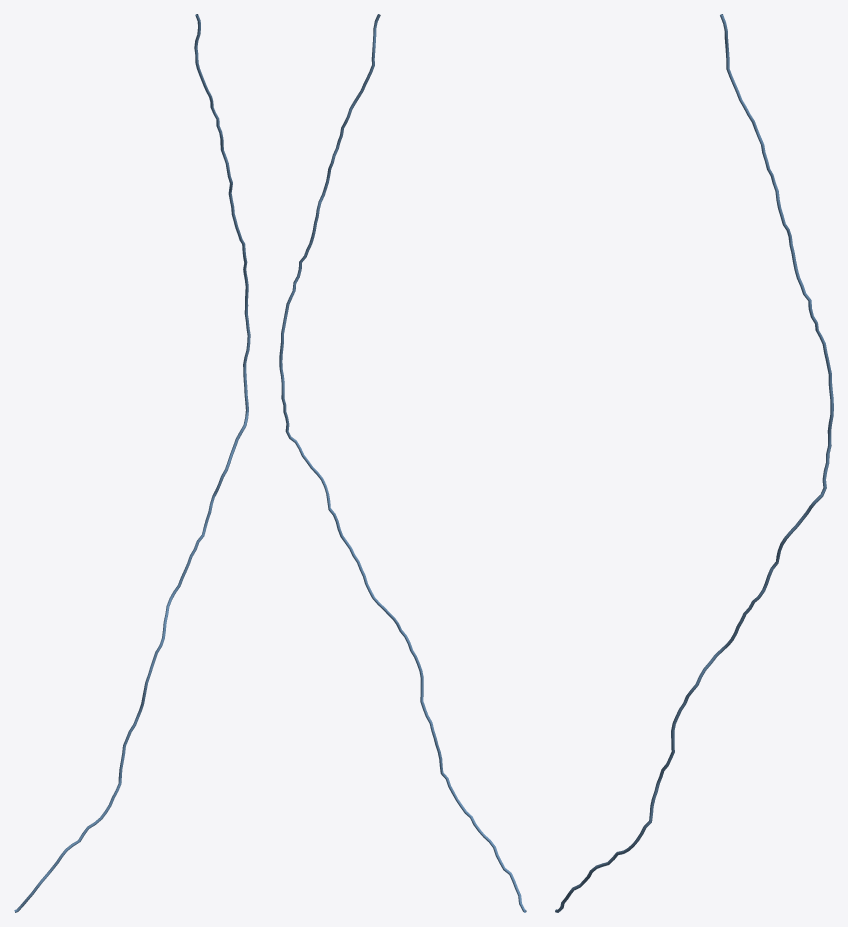
The model's file is sweep94.fbx.
3 views of the same model, side by side, from view 1: azimuth 30°, elevation 25°; view 2: azimuth 150°, elevation 25°; view 3: azimuth 330°, elevation 25° (orthographic). The views are drawn at different scales.
Parts seen in each view (by area): view 1: sweep94; view 2: sweep94; view 3: sweep94.
Part boxes in pixels (x1,y1,x2,y2): sweep94: [14, 14, 250, 912]; sweep94: [279, 14, 526, 912]; sweep94: [555, 14, 833, 912].
Bounding box in the file's own units: 1.75 × 5.95 × 0.3336.
